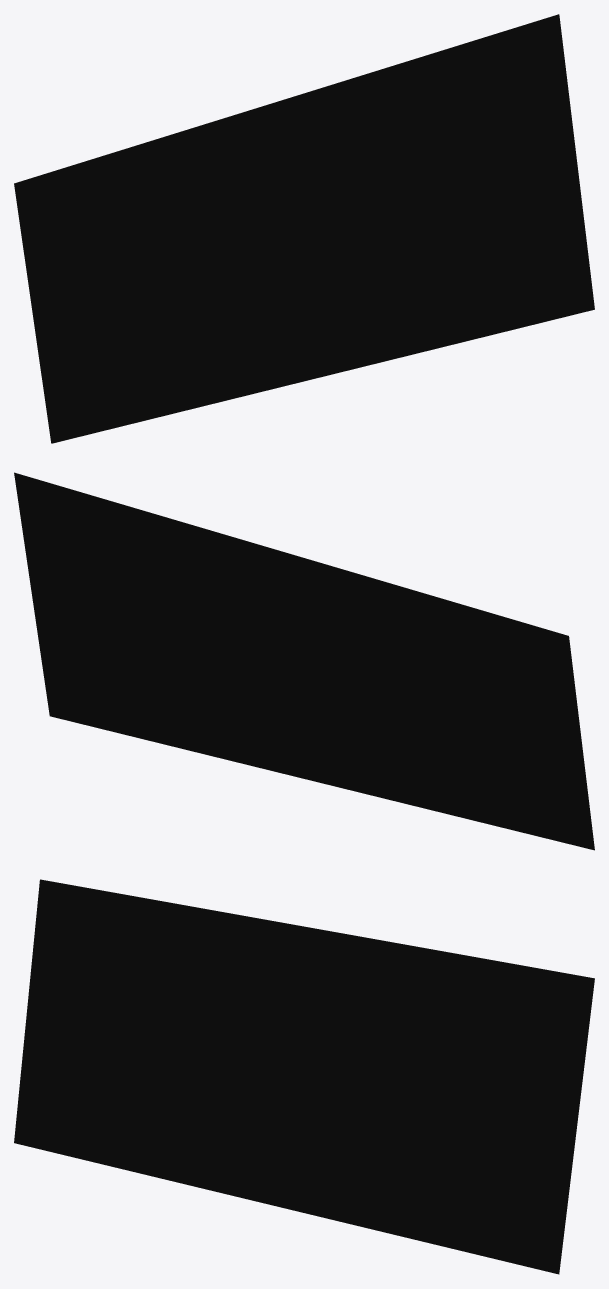
3 views of the same model, one above another, from view 1: azimuth 30°, elevation 25°; view 2: azimuth 150°, elevation 25°; view 3: azimuth 330°, elevation 25° (orthographic).
Parts seen in each view (by area): view 1: 1; view 2: 1; view 3: 1.
Part boxes in pixels (left/top/right/bottom): 1: left=14, top=14, right=594, bottom=443; 1: left=14, top=472, right=594, bottom=850; 1: left=14, top=879, right=594, bottom=1274.
Bounding box in the file's own units: 4996 × 2352 × 565.
Materials: 1 (1 with a texture image).
